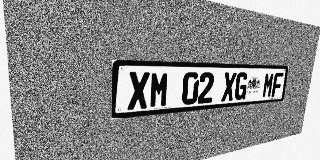0: (181, 72, 200, 105)
2: (197, 72, 215, 104)
F: (271, 73, 284, 97)
G: (234, 72, 249, 100)
M: (149, 72, 170, 108), (262, 72, 275, 98)
X: (127, 72, 150, 110), (221, 72, 237, 102)
